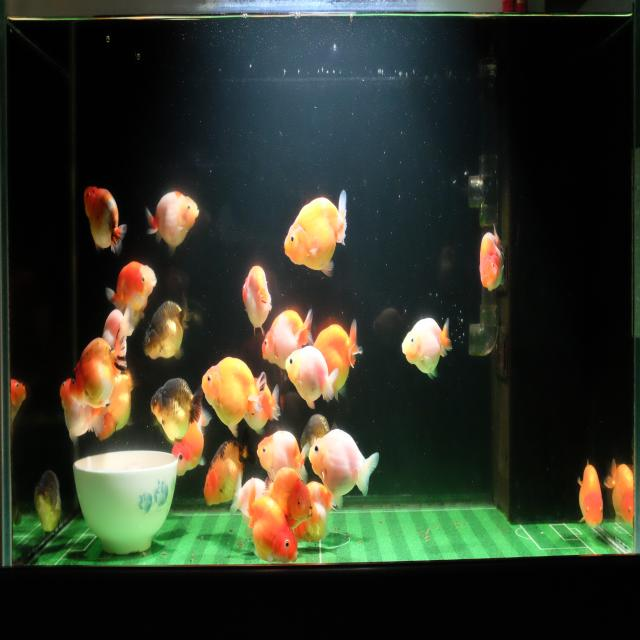Goldfish: (282, 184, 348, 280), (308, 427, 381, 510), (201, 355, 266, 439), (67, 324, 128, 412), (246, 476, 301, 564), (311, 316, 363, 401), (141, 290, 200, 362), (144, 187, 200, 257), (400, 314, 454, 382), (262, 464, 314, 534), (285, 344, 338, 412), (150, 376, 201, 445), (202, 440, 252, 510), (82, 183, 128, 256), (96, 363, 136, 446), (58, 372, 104, 444), (260, 308, 314, 369), (105, 258, 158, 320), (170, 407, 212, 478), (256, 429, 309, 483), (240, 261, 274, 337), (32, 464, 62, 542), (604, 457, 634, 527), (479, 221, 507, 295), (578, 458, 604, 530), (102, 301, 132, 357), (10, 364, 28, 438)
